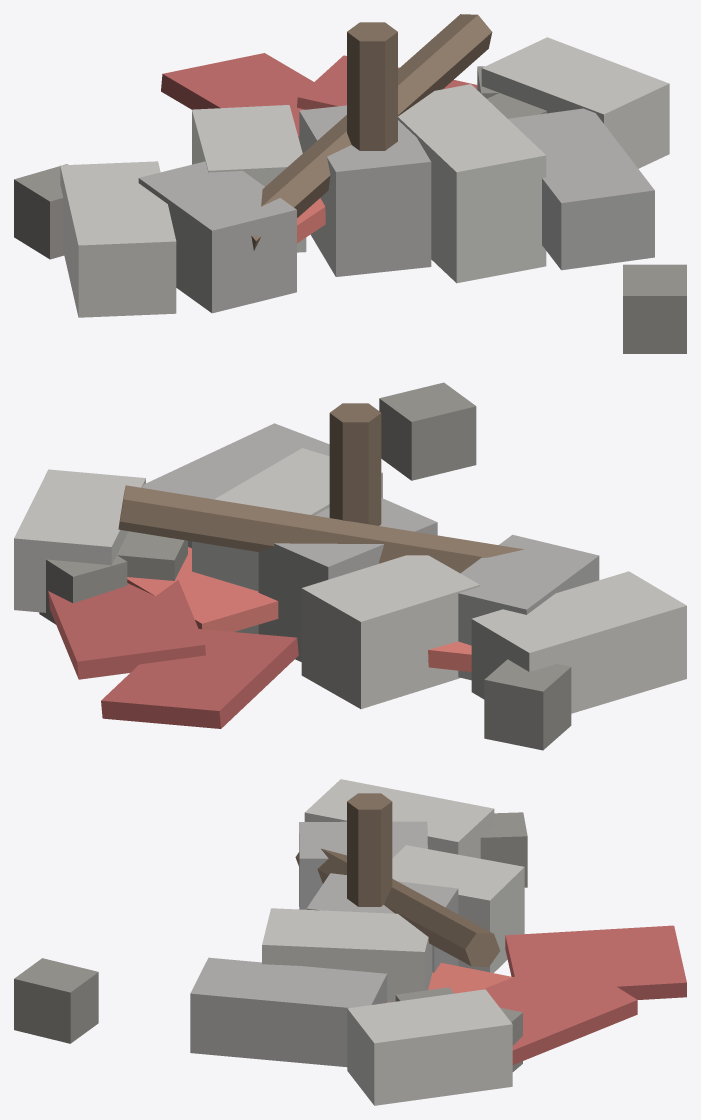
File: ws_ruin_city_banner_small.glb
The picture shows the model from 3 angles, top to bottom: view 1: azimuth 30°, elevation 25°; view 2: azimuth 150°, elevation 25°; view 3: azimuth 270°, elevation 25°; orthographic projection. The views are drawn at different scales.
Visible parts, largest first — view 1: ws_ruin_city_banner_small; view 2: ws_ruin_city_banner_small; view 3: ws_ruin_city_banner_small.
Part boxes in pixels (x1=…): ws_ruin_city_banner_small: x1=14, y1=14, x2=686, y2=353; ws_ruin_city_banner_small: x1=14, y1=382, x2=686, y2=750; ws_ruin_city_banner_small: x1=14, y1=779, x2=686, y2=1105.
Size of the model in its own units: 1.1 by 0.3758 by 1.19.
